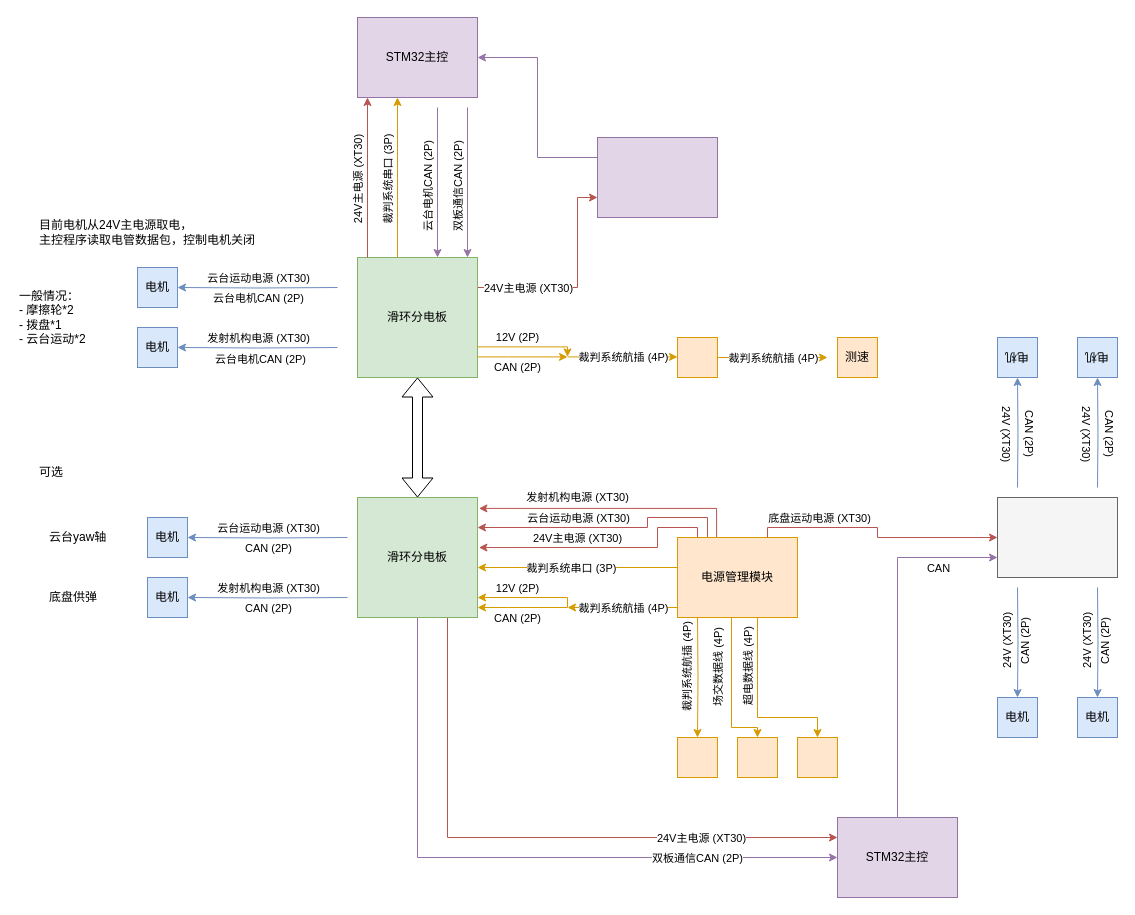
Some shapes in this 1135 by 915 pixel diagram are drawn without their labels. Here are the shapes that lost their labels. From the top down, the centre of each, then its label:
At [657,177]: "MiniPC".
At [697,357]: "图传".
At [1057,537]: "底盘分电板".
At [697,757]: "主控".
At [757,757]: "场交".
At [817,757]: "超电".
